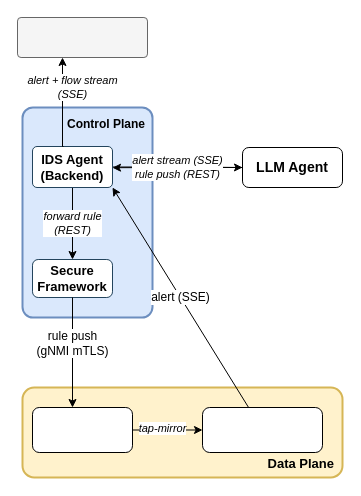
The diagram is 361 pixels wide and 496 high, and some of its shapes have lost their labels. Each missing label, with the centre of its shape:
IDS (Suricata): the point at 262,429
Operator Dashboard (Live Monitor UI): the point at 82,37
Spine-Leaf Fabric: the point at 82,429
